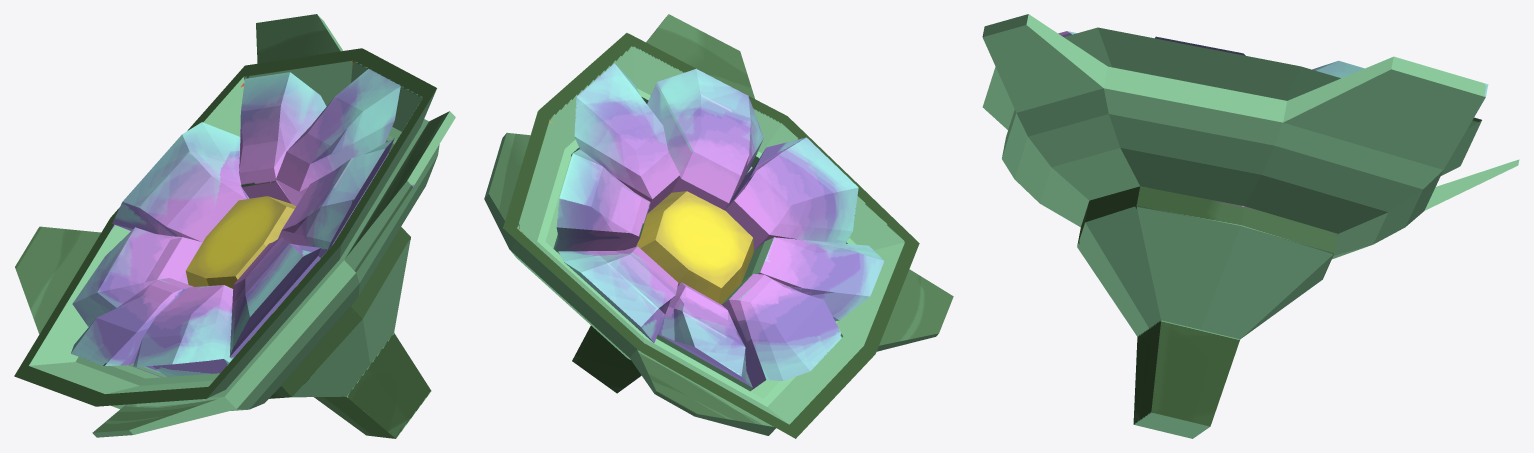
The model's file is flower.fbx.
3 views of the same model, side by side, from view 1: azimuth 30°, elevation 25°; view 2: azimuth 150°, elevation 25°; view 3: azimuth 270°, elevation 25° (orthographic). The views are drawn at different scales.
Visible parts, largest first — view 1: Cube.004; view 2: Cube.004; view 3: Cube.004.
Boxes of the visible parts, x1,y1,x2,y2 form: Cube.004: (14, 14, 455, 438); Cube.004: (484, 14, 953, 438); Cube.004: (982, 14, 1519, 438).
Bounding box in the file's own units: 1900 × 1851 × 2084.
